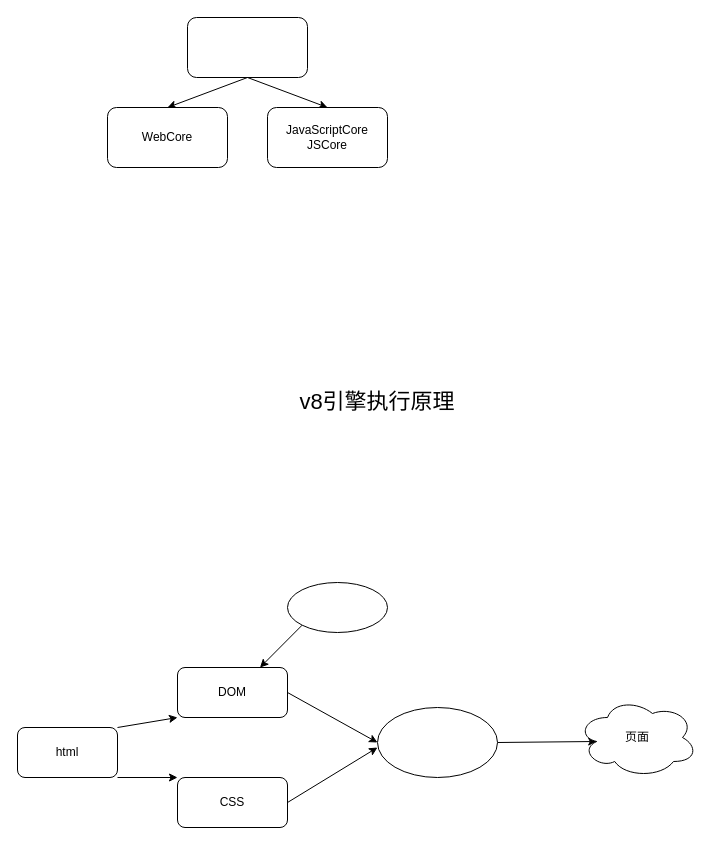
Some shapes in this 715 by 845 pixel diagram are drawn without their labels. Here are the shapes that lost their labels. From the top down, the centre of each, then its label:
At point 247,47: "WebKit".
At point 337,607: "js引擎：v8".
At point 437,742: "渲染树".
